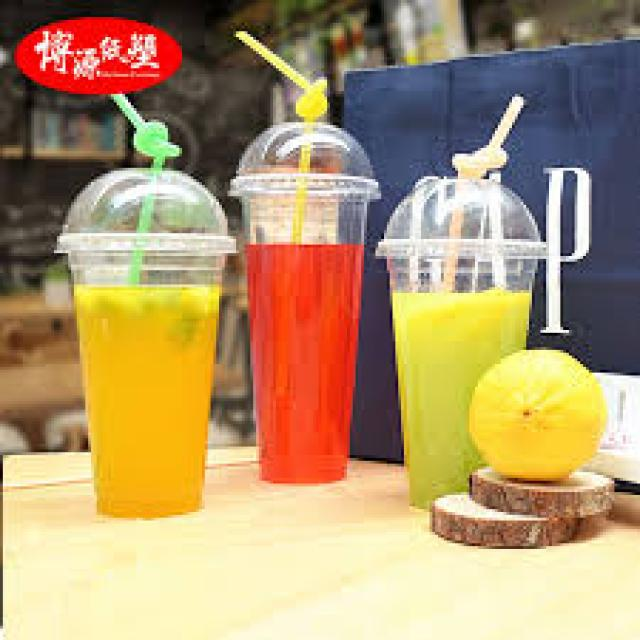cup: (40, 220, 241, 530), (215, 168, 396, 494)
